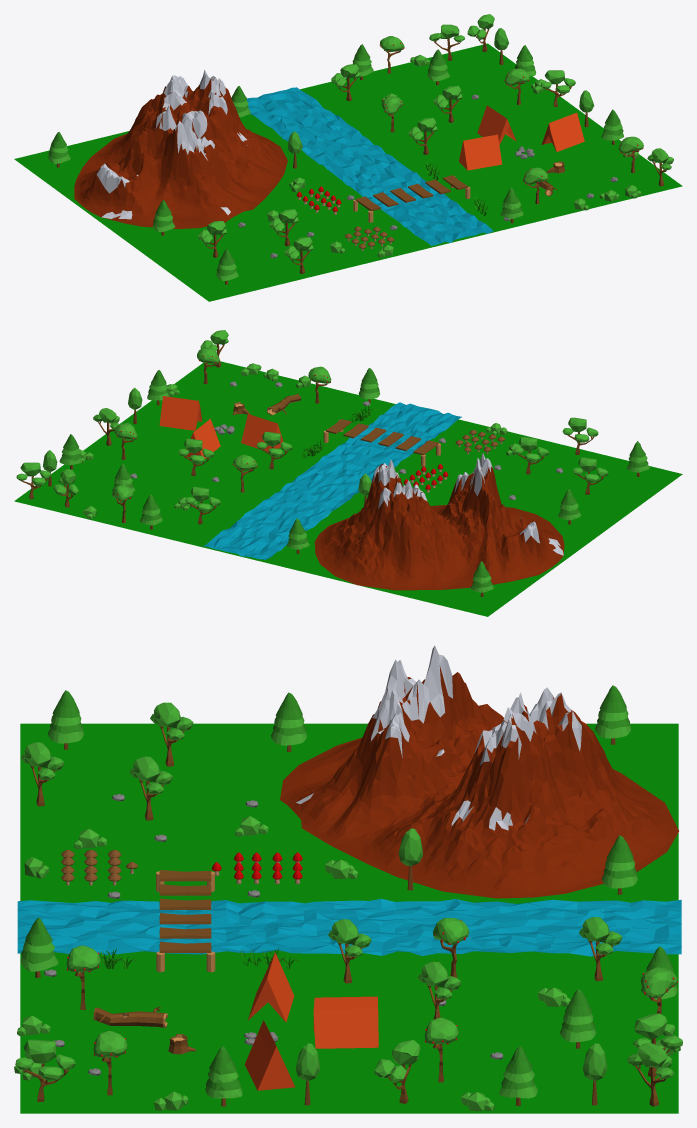
File: room.glb
3 renders of one model, top to bottom at view 1: azimuth 30°, elevation 25°; view 2: azimuth 150°, elevation 25°; view 3: azimuth 270°, elevation 25°, orthographic. The views are drawn at different scales.
Parts seen in each view (by area): view 1: Plane, Landscape.002, Icosphere.003, Plane.002, Plane.003, Cube.002, Circle.002, Icosphere; view 2: Plane, Landscape.002, Icosphere.003, Plane.002, Plane.003, Cube.002, Circle.002, Icosphere; view 3: Plane, Landscape.002, Icosphere.003, Plane.002, Plane.003, Cube.002, Circle.002, Icosphere, Circle.005, Circle, Cube.004.
Part boxes in pixels (x1,y1,x2,y2): Plane: [14, 43, 682, 301]; Landscape.002: [74, 70, 287, 228]; Icosphere.003: [48, 14, 673, 284]; Plane.002: [246, 87, 493, 245]; Plane.003: [459, 105, 584, 170]; Cube.002: [48, 44, 623, 276]; Circle.002: [298, 192, 394, 250]; Icosphere: [238, 94, 617, 258]; Plane: [14, 361, 682, 616]; Landscape.002: [314, 452, 564, 590]; Icosphere.003: [16, 330, 650, 596]; Plane.002: [203, 402, 461, 559]; Plane.003: [159, 396, 283, 458]; Cube.002: [62, 368, 648, 587]; Circle.002: [405, 429, 504, 492]; Icosphere: [130, 381, 562, 499]; Plane: [20, 723, 678, 1113]; Landscape.002: [280, 645, 678, 898]; Icosphere.003: [14, 702, 682, 1111]; Plane.002: [17, 898, 681, 956]; Plane.003: [244, 952, 378, 1090]; Cube.002: [21, 685, 676, 1090]; Circle.002: [61, 849, 300, 885]; Icosphere: [44, 794, 503, 1075]; Circle.005: [211, 852, 302, 879]; Circle: [93, 871, 215, 1042]; Cube.004: [100, 947, 299, 969].
Bounding box in the file's own units: 35.83 × 6.4 × 25.76.
